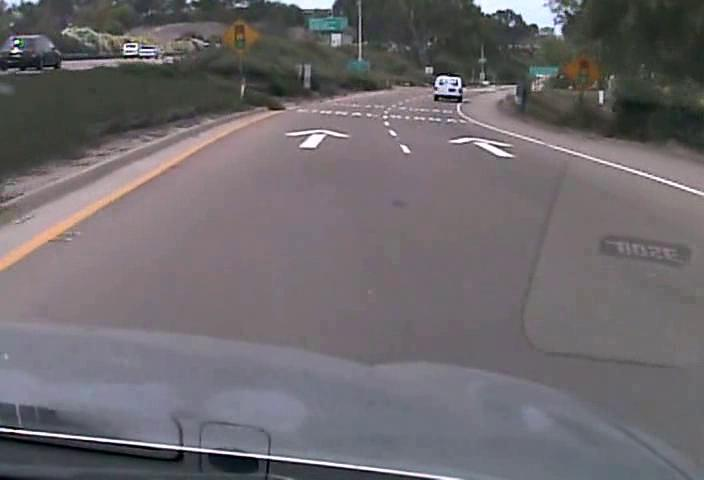signalAhead: (220, 17, 262, 55)
